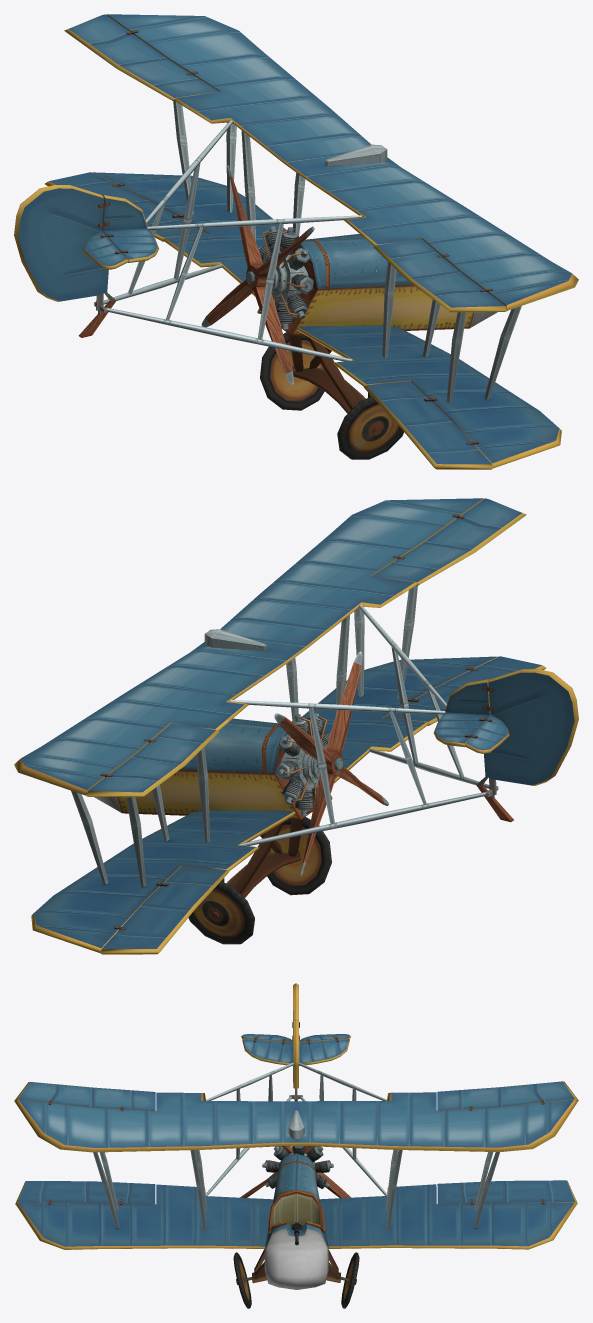
The picture shows the model from 3 angles, top to bottom: view 1: azimuth 30°, elevation 25°; view 2: azimuth 150°, elevation 25°; view 3: azimuth 270°, elevation 25°; orthographic projection. The views are drawn at different scales.
Parts seen in each view (by area): view 1: dh2; view 2: dh2; view 3: dh2.
Boxes of the visible parts, box(x1,y1,x2,y2) form: dh2: box(14, 14, 578, 469); dh2: box(14, 498, 578, 954); dh2: box(14, 983, 578, 1308).
Size of the model in its own units: 1 by 0.6334 by 1.46.
Materials: 1 (1 with a texture image).
